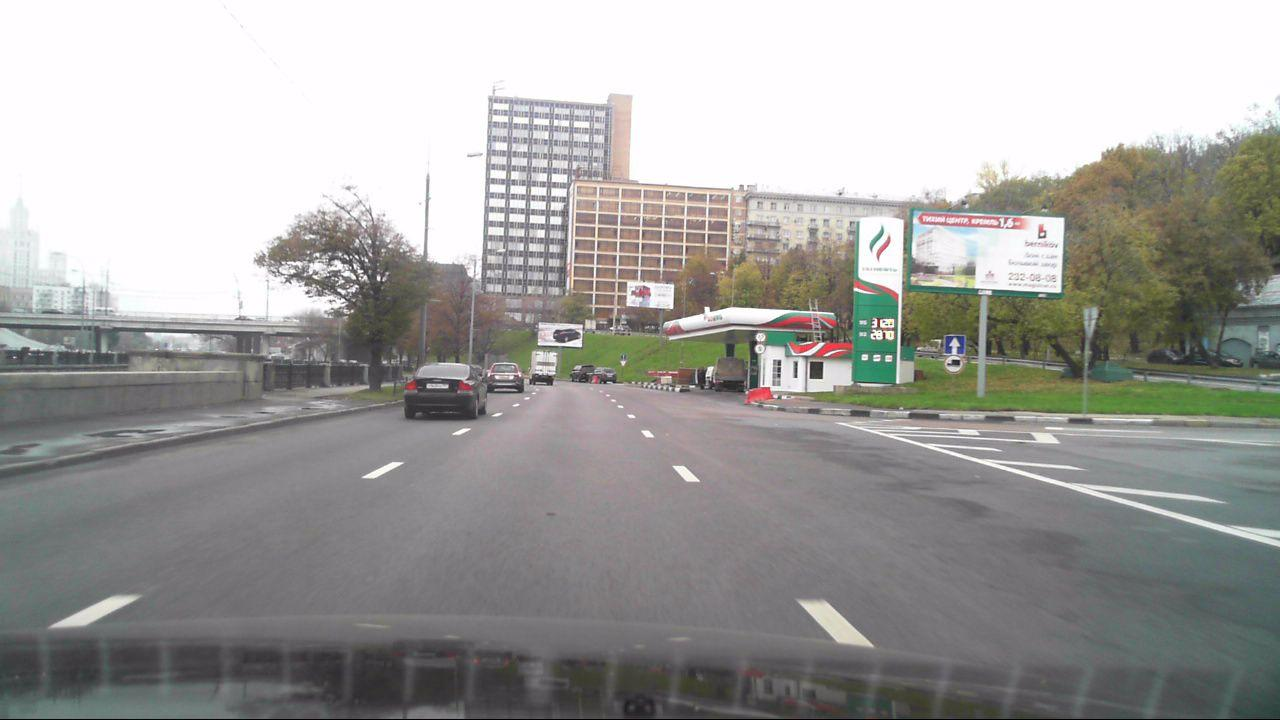2_4: (620, 361, 627, 368)
3_13: (755, 331, 766, 343)
3_24: (754, 343, 765, 354)
3_4: (945, 356, 964, 373)
4_1_1: (620, 354, 627, 361)
5_5: (944, 334, 966, 355)
